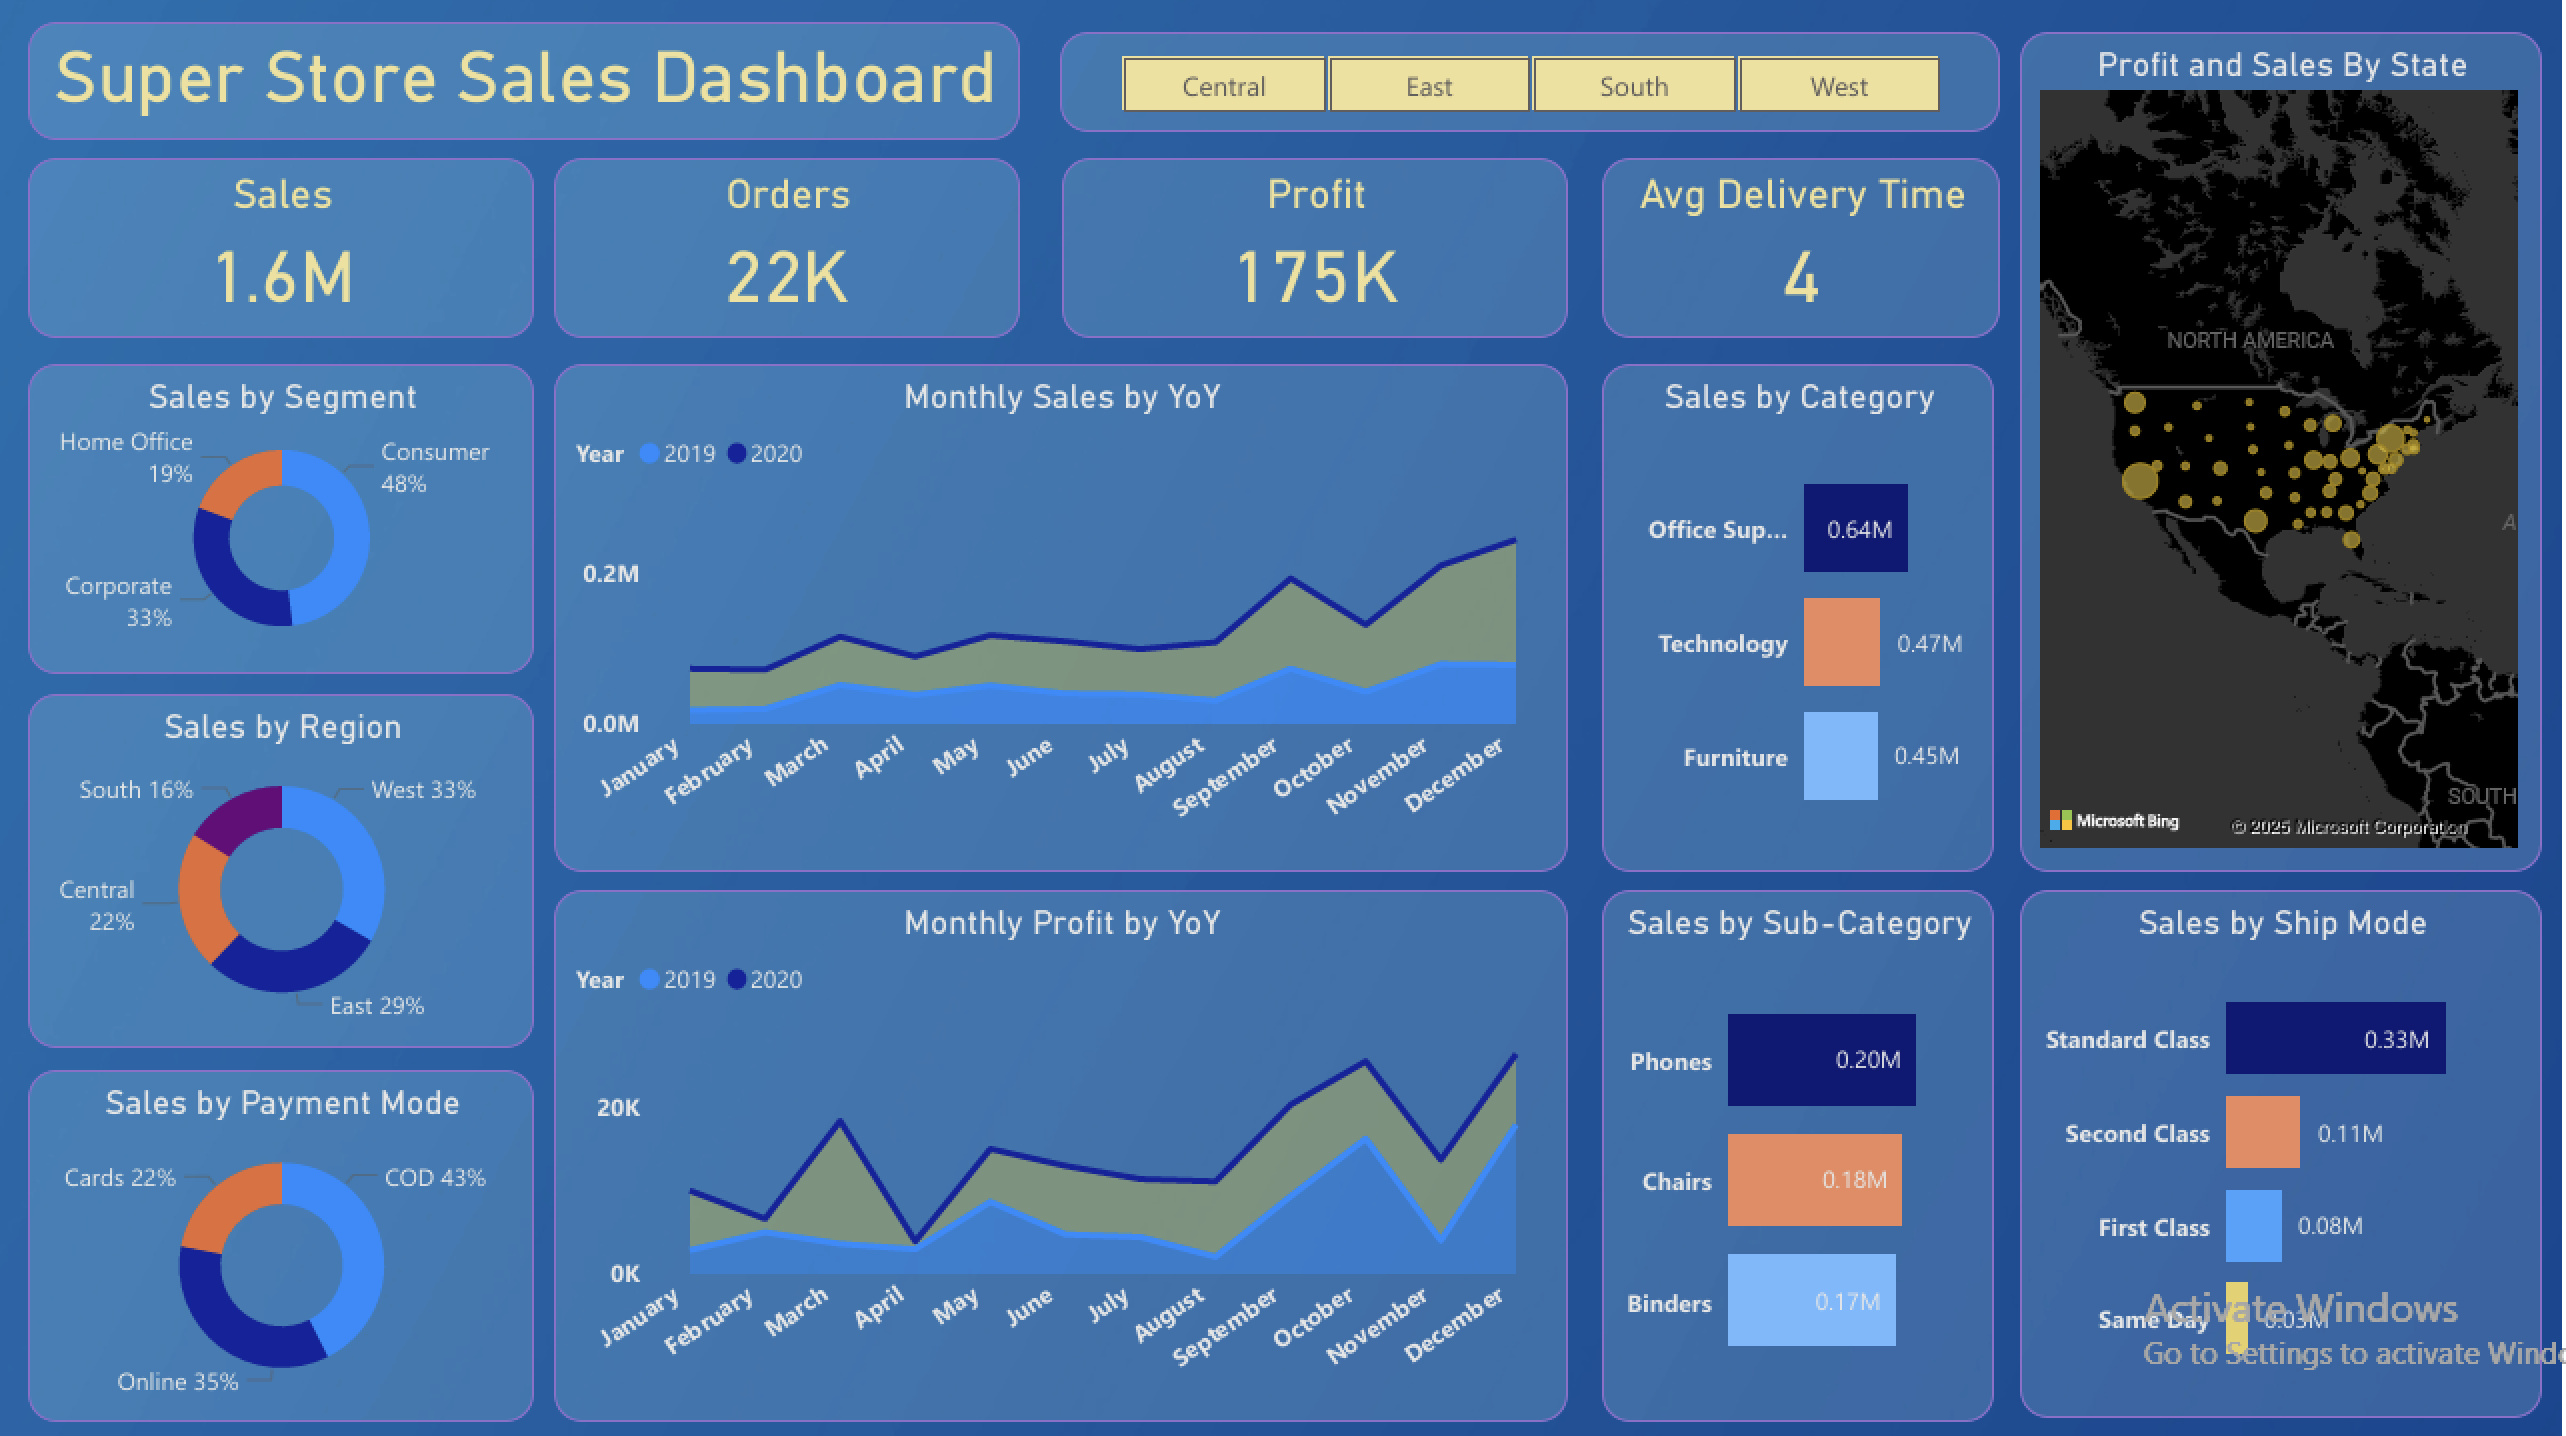

The page's visual inventory and layout, read from the dashboard file:
{"tool":"powerbi","page":{"name":"Page 1","canvas":[1280,720],"ordinal":0},"visuals":[{"type":"clusteredBarChart","title":"Sales by Category","fields":{"Category":["SuperStore_Sales_Dataset.Category"],"Y":["Sum(SuperStore_Sales_Dataset.Sales)"]},"box":[800,181.2,196.2,253.8],"z":0},{"type":"clusteredBarChart","title":"Sales by Sub-Category","fields":{"Category":["SuperStore_Sales_Dataset.Sub-Category"],"Y":["Sum(SuperStore_Sales_Dataset.Sales)"]},"box":[800,443.8,196.2,266.2],"z":1000},{"type":"clusteredBarChart","title":"Sales by Ship Mode","fields":{"Category":["SuperStore_Sales_Dataset.Ship Mode"],"Y":["Sum(SuperStore_Sales_Dataset.Sales)"]},"box":[1008.8,443.8,261.2,263.8],"z":2000},{"type":"stackedAreaChart","title":"Monthly  Sales by YoY","fields":{"Y":["Sum(SuperStore_Sales_Dataset.Sales)"],"Category":["SuperStore_Sales_Dataset.Order Date.Variation.Date Hierarchy.Month","SuperStore_Sales_Dataset.Order Date.Variation.Date Hierarchy.Day"],"Series":["SuperStore_Sales_Dataset.Order Date.Variation.Date Hierarchy.Year"]},"box":[276.2,181.2,506.2,253.8],"z":3000},{"type":"stackedAreaChart","title":"Monthly  Profit by YoY","fields":{"Category":["SuperStore_Sales_Dataset.Order Date.Variation.Date Hierarchy.Month","SuperStore_Sales_Dataset.Order Date.Variation.Date Hierarchy.Day"],"Series":["SuperStore_Sales_Dataset.Order Date.Variation.Date Hierarchy.Year"],"Y":["Sum(SuperStore_Sales_Dataset.Profit)"]},"box":[276.2,443.8,506.2,266.2],"z":4000},{"type":"map","title":"Profit and Sales By State","fields":{"Category":["SuperStore_Sales_Dataset.State"],"Size":["Sum(SuperStore_Sales_Dataset.Sales)"]},"box":[1008.8,15,261.2,420],"z":5000},{"type":"donutChart","title":"Sales by Segment","fields":{"Category":["SuperStore_Sales_Dataset.Segment"],"Y":["Sum(SuperStore_Sales_Dataset.Sales)"]},"box":[12.5,181.2,253.8,155],"z":6000},{"type":"donutChart","title":"Sales by Region","fields":{"Category":["SuperStore_Sales_Dataset.Region"],"Y":["Sum(SuperStore_Sales_Dataset.Sales)"]},"box":[12.5,346.2,253.8,176.2],"z":7000},{"type":"donutChart","title":"Sales by Payment Mode","fields":{"Category":["SuperStore_Sales_Dataset.Payment Mode"],"Y":["Sum(SuperStore_Sales_Dataset.Sales)"]},"box":[12.5,533.8,253.8,176.2],"z":8000},{"type":"slicer","fields":{"Values":["SuperStore_Sales_Dataset.Region"]},"box":[528.8,15,470,50],"z":9000},{"type":"textbox","title":"Super  Store Sales Dashboard","box":[12.5,10,496.2,58.8],"z":10000},{"type":"card","title":"Sales","fields":{"Values":["Sum(SuperStore_Sales_Dataset.Sales)"]},"box":[12.5,77.5,253.8,90],"z":11000},{"type":"card","title":"Orders","fields":{"Values":["Sum(SuperStore_Sales_Dataset.Quantity)"]},"box":[276.2,77.5,232.5,90],"z":12000},{"type":"card","title":"Profit","fields":{"Values":["Sum(SuperStore_Sales_Dataset.Profit)"]},"box":[530,77.5,252.5,90],"z":13000},{"type":"card","title":"Avg Delivery Time","fields":{"Values":["Avg(SuperStore_Sales_Dataset.Avg Delivery Time)"]},"box":[800,77.5,198.8,90],"z":14000}]}

Visuals, with their boxes in screenshot pixels (x1, y1, x2, y2), scaled from the page's 1280x720 canvas onto the 2566x1436 screenshot:
"Sales by Category" clusteredBarChart: region(1604, 361, 1997, 868)
"Sales by Sub-Category" clusteredBarChart: region(1604, 885, 1997, 1416)
"Sales by Ship Mode" clusteredBarChart: region(2022, 885, 2546, 1411)
"Monthly  Sales by YoY" stackedAreaChart: region(554, 361, 1568, 868)
"Monthly  Profit by YoY" stackedAreaChart: region(554, 885, 1568, 1416)
"Profit and Sales By State" map: region(2022, 30, 2546, 868)
"Sales by Segment" donutChart: region(25, 361, 534, 671)
"Sales by Region" donutChart: region(25, 690, 534, 1042)
"Sales by Payment Mode" donutChart: region(25, 1065, 534, 1416)
slicer - SuperStore_Sales_Dataset.Region: region(1060, 30, 2002, 130)
"Super  Store Sales Dashboard" textbox: region(25, 20, 1020, 137)
"Sales" card: region(25, 155, 534, 334)
"Orders" card: region(554, 155, 1020, 334)
"Profit" card: region(1062, 155, 1569, 334)
"Avg Delivery Time" card: region(1604, 155, 2002, 334)
